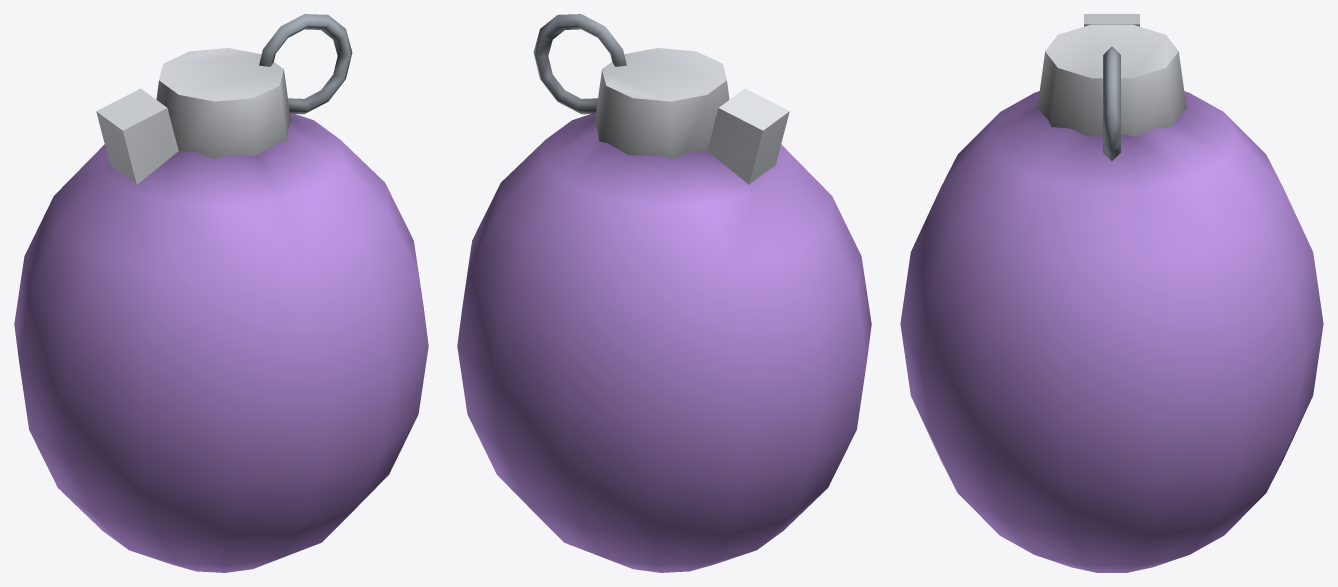
The model's file is TeleportationGrenade.fbx.
The picture shows the model from 3 angles, left to right: view 1: azimuth 30°, elevation 25°; view 2: azimuth 150°, elevation 25°; view 3: azimuth 270°, elevation 25°; orthographic projection. The views are drawn at different scales.
Parts seen in each view (by area): view 1: grenade_teleport; view 2: grenade_teleport; view 3: grenade_teleport.
Part boxes in pixels (<box>): grenade_teleport: <box>14,14,428,572</box>; grenade_teleport: <box>457,14,871,572</box>; grenade_teleport: <box>900,14,1323,572</box>.
Size of the model in its own units: 0.312 by 0.4336 by 0.304.
